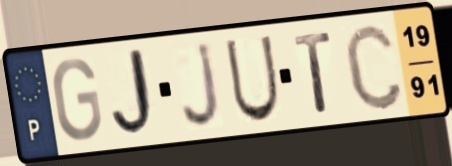C: (340, 19, 407, 114)
G: (50, 55, 105, 144)
J: (109, 44, 162, 142), (179, 39, 225, 132)
T: (291, 28, 334, 115)
U: (222, 32, 282, 126)
